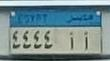4: (44, 29, 53, 50), (11, 29, 20, 49), (22, 30, 31, 49), (33, 30, 41, 49)
alif: (82, 31, 92, 50), (67, 31, 75, 50)
